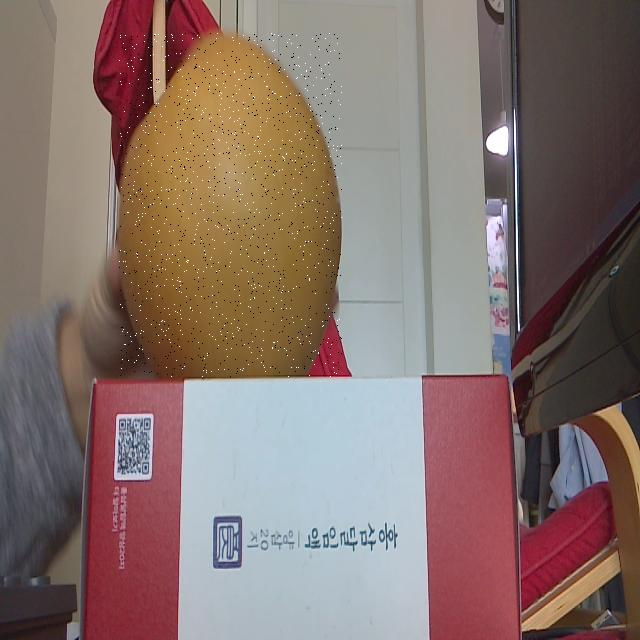pear: (119, 33, 342, 377)
